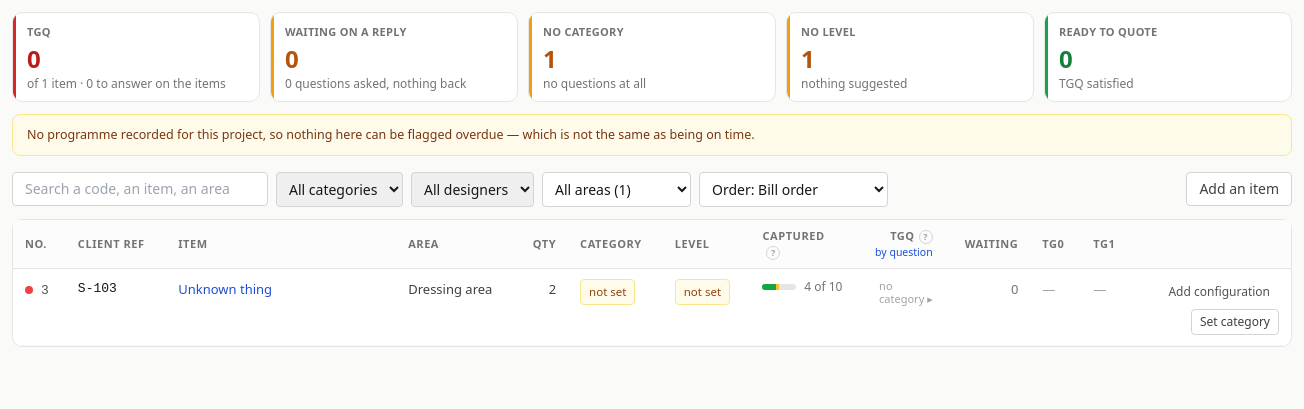
Test: an uncategorised record (row d1) › opens on the reason, and the reason is the category rather than a level
The image size is (1304, 409).
Click the button titled "No category, so there is no checklist to count" at (906, 293), box [879,278,933,308]
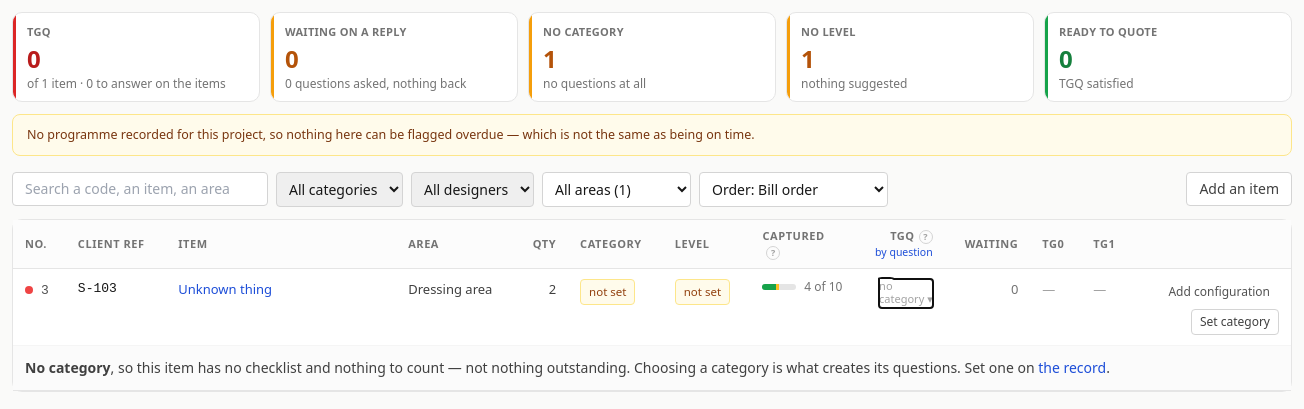
Check: the text "no checklist and nothing to count" is shown, box [110,358,1034,376]
